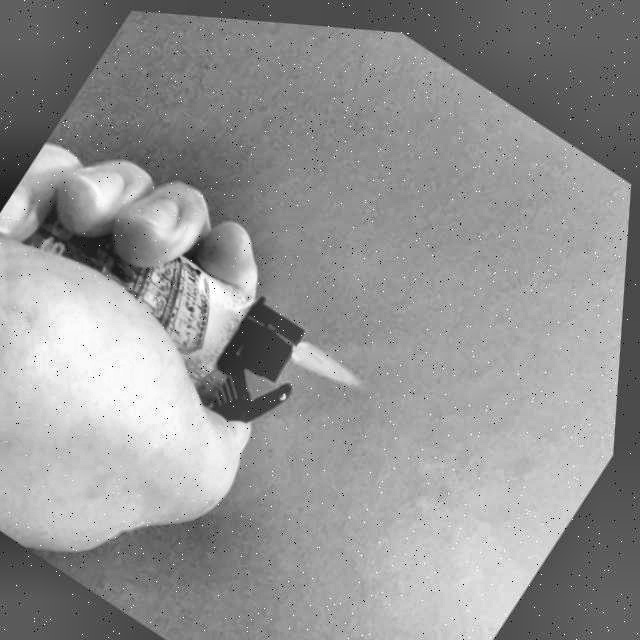Fire: (290, 324, 378, 396)
